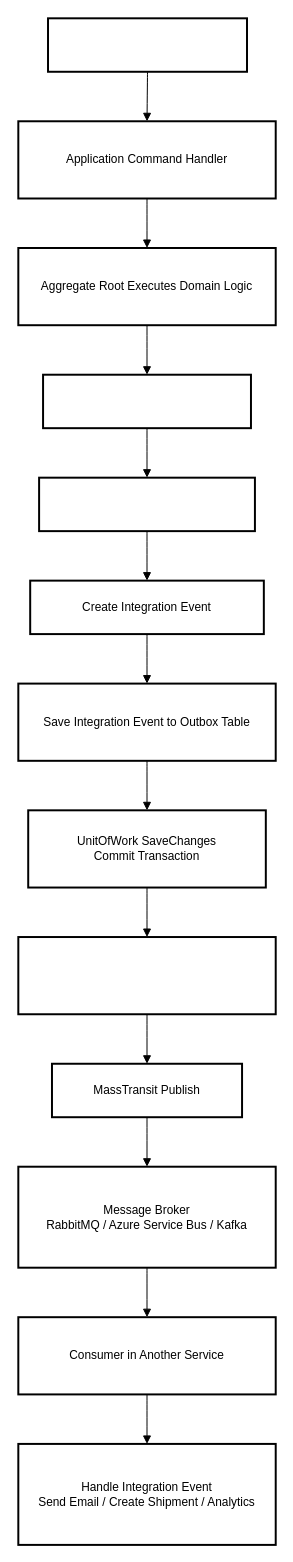
This 293x1562 diagram has some shape labels left out. The shapes that lost their labels are listed below. From the top down, each one's box as (x1, y1, x2, y2) in pixels, then its label:
(47, 17, 248, 72): Command Received
(42, 373, 251, 429): Domain Event Raised
(38, 476, 255, 532): Domain Event Handler
(17, 936, 276, 1015): Outbox Publisher Background Service
